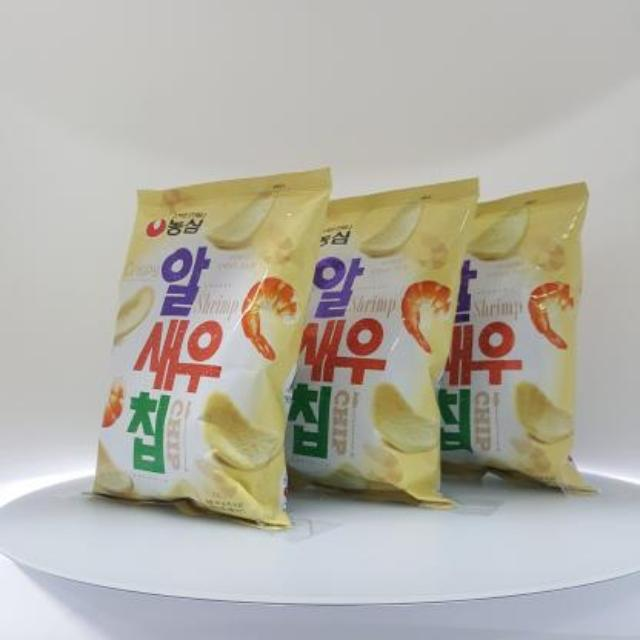snack_bag: (71, 158, 614, 538)
